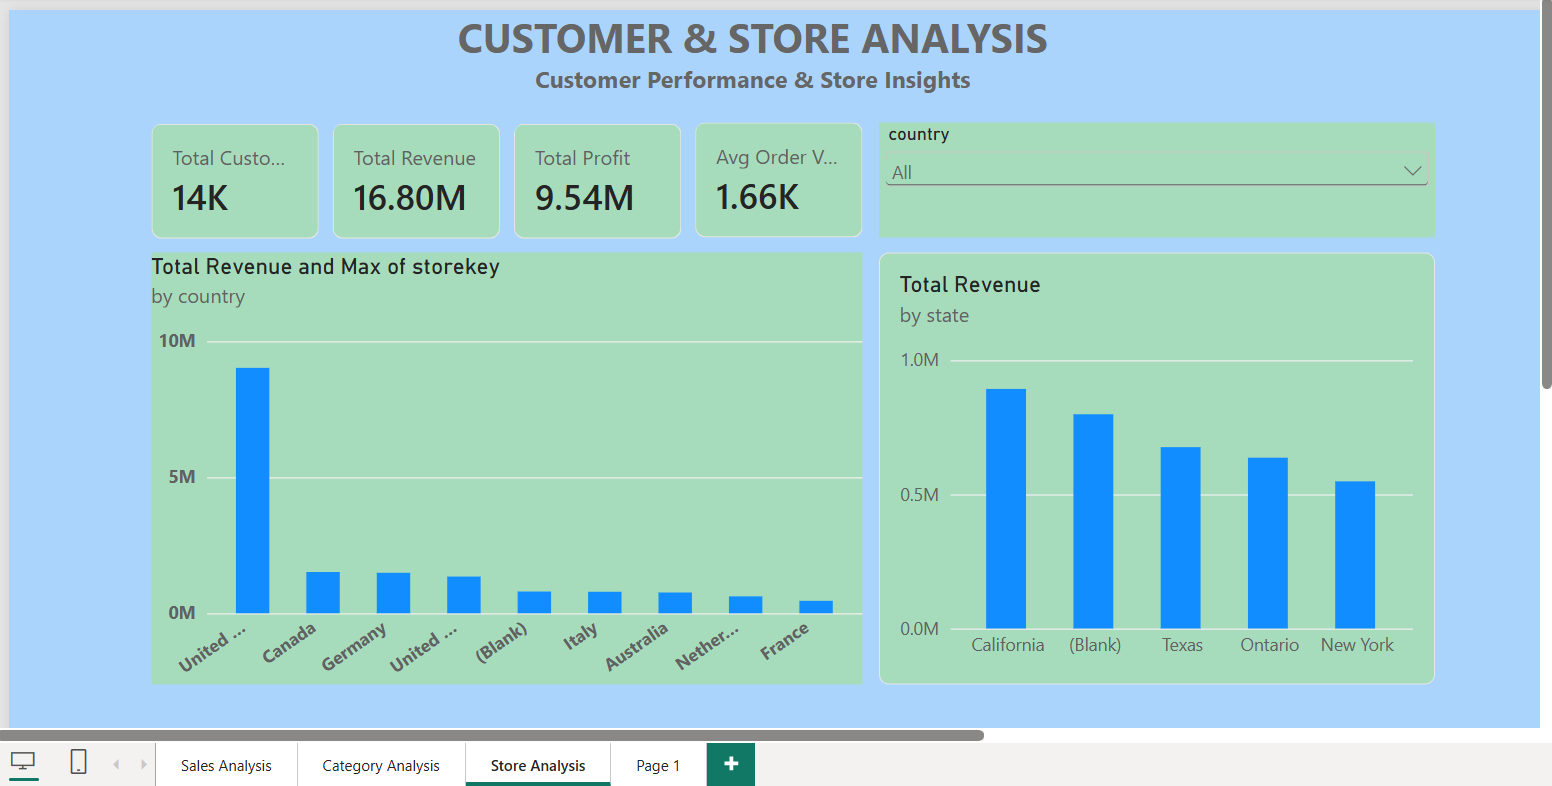

Layout of this report page (visuals, bound fields, positions):
{"tool":"powerbi","page":{"name":"Store Analysis","canvas":[1920,1080],"ordinal":2},"visuals":[{"type":"textbox","box":[50,0,1091.1,77.8],"z":0},{"type":"cardVisual","fields":{"Data":["public customers.Total Customers"]},"box":[114.4,91.1,134,92],"z":1000},{"type":"cardVisual","fields":{"Data":["public sales.Total Revenue"]},"box":[258.9,91.1,134,92],"z":2000},{"type":"cardVisual","fields":{"Data":["public sales.Total Profit"]},"box":[404.4,91.1,134,92],"z":3000},{"type":"cardVisual","fields":{"Data":["public sales.Average Order Value"]},"box":[548.9,90,134,92],"z":4000},{"type":"clusteredColumnChart","fields":{"Y":["public sales.Total Revenue"],"Category":["public customers.country"]},"box":[114.4,194.4,568.9,345.6],"z":5000},{"type":"clusteredColumnChart","fields":{"Y":["public sales.Total Revenue"],"Category":["public customers.state"]},"box":[695.6,194.4,445.6,345.6],"z":6000},{"type":"slicer","fields":{"Values":["public customers.country"]},"box":[695.6,90,445.6,92.2],"z":7000}]}

Visuals, with their boxes on the page's 1920x1080 design canvas (x1, y1, x2, y2). These are canvas units, not pixel positions in the 1552x786 screenshot, which may show the page scaled, cropped or inside an application window:
textbox: left=50, top=0, right=1141, bottom=78
cardVisual - public customers.Total Customers: left=114, top=91, right=248, bottom=183
cardVisual - public sales.Total Revenue: left=259, top=91, right=393, bottom=183
cardVisual - public sales.Total Profit: left=404, top=91, right=538, bottom=183
cardVisual - public sales.Average Order Value: left=549, top=90, right=683, bottom=182
clusteredColumnChart - public sales.Total Revenue x public customers.country: left=114, top=194, right=683, bottom=540
clusteredColumnChart - public sales.Total Revenue x public customers.state: left=696, top=194, right=1141, bottom=540
slicer - public customers.country: left=696, top=90, right=1141, bottom=182
